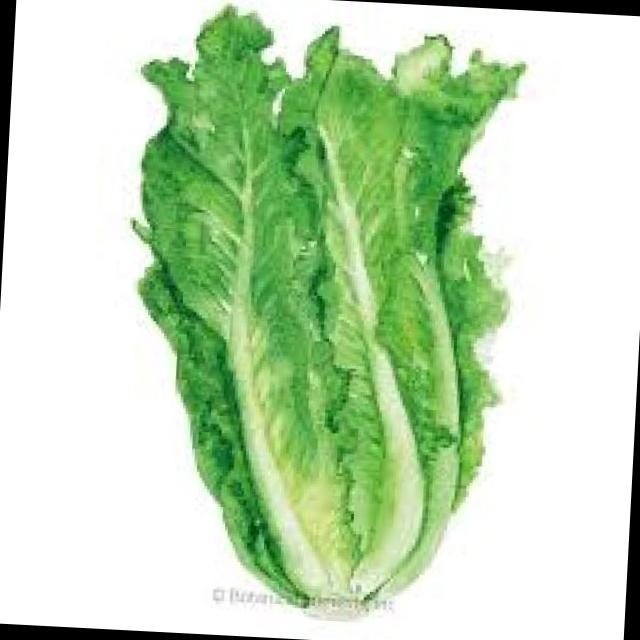Lettuce-Ready-to-Harvest: (136, 7, 524, 604)
